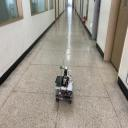cart: (55, 76, 73, 104)
